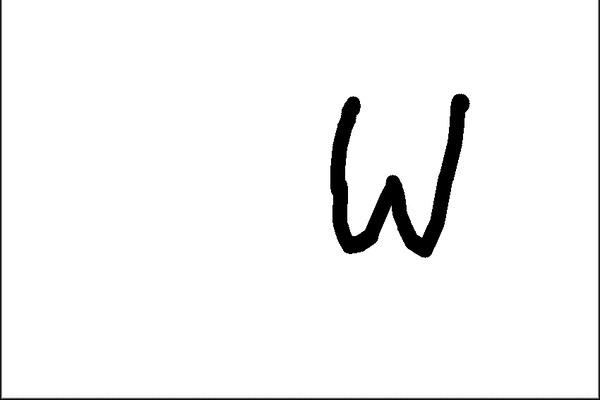w: (308, 80, 480, 273)
